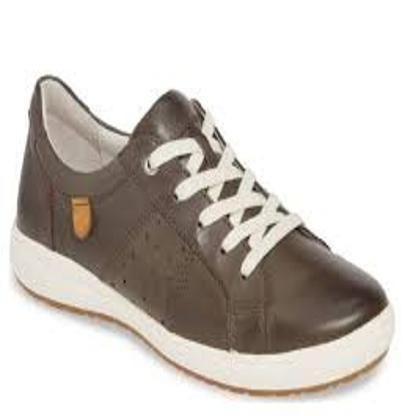not trash: (13, 72, 393, 399)
